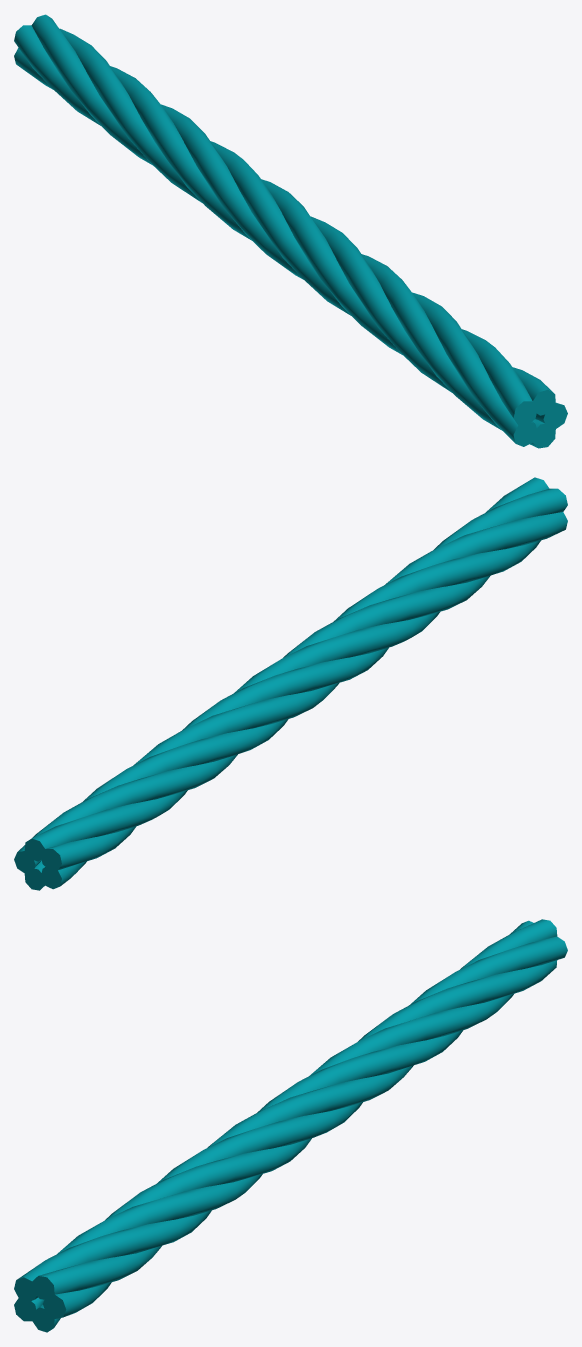
Rendered from wire_10.fbx.
The picture shows the model from 3 angles, top to bottom: view 1: azimuth 30°, elevation 25°; view 2: azimuth 150°, elevation 25°; view 3: azimuth 330°, elevation 25°; orthographic projection. The views are drawn at different scales.
Parts seen in each view (by area): view 1: sweep4; view 2: sweep4; view 3: sweep4.
Part boxes in pixels (bbox=[...]): sweep4: bbox=[14, 14, 567, 448]; sweep4: bbox=[14, 477, 567, 890]; sweep4: bbox=[14, 919, 567, 1332].
Bounding box in the file's own units: 0.0148 × 0.013 × 0.2015.
